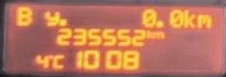-: (155, 19, 162, 27), (58, 18, 65, 26)
0: (82, 49, 100, 69), (104, 49, 121, 69), (168, 8, 183, 28), (140, 7, 155, 26)
1: (75, 50, 82, 67)
2: (55, 27, 71, 45), (130, 28, 144, 45)
3: (72, 27, 86, 45)
4: (34, 54, 48, 67)
5: (86, 27, 101, 45), (116, 28, 131, 45), (101, 28, 116, 45)
8: (122, 50, 139, 70)
X: (14, 6, 31, 26), (43, 10, 59, 26), (196, 13, 212, 28), (183, 9, 194, 28), (51, 53, 63, 69), (152, 31, 163, 39), (145, 28, 152, 37)
